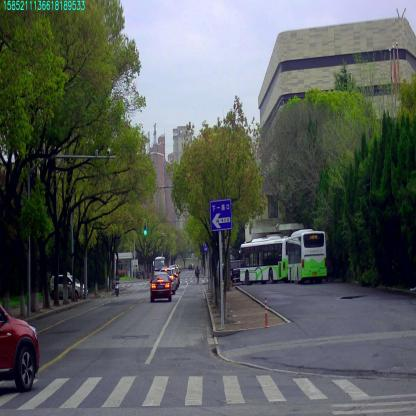traffic-light: (144, 221, 146, 235)
